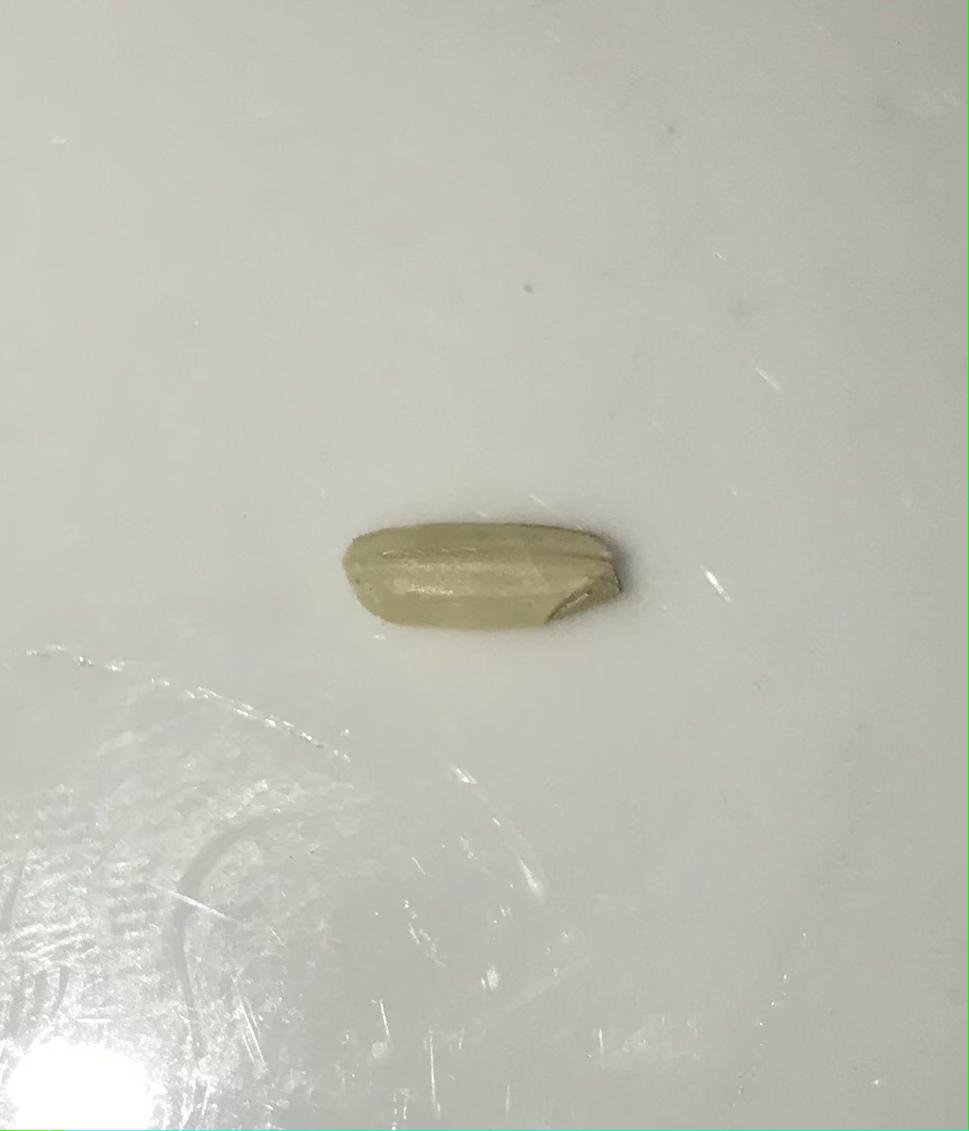Gao Lut Trang: (345, 516, 634, 631)
